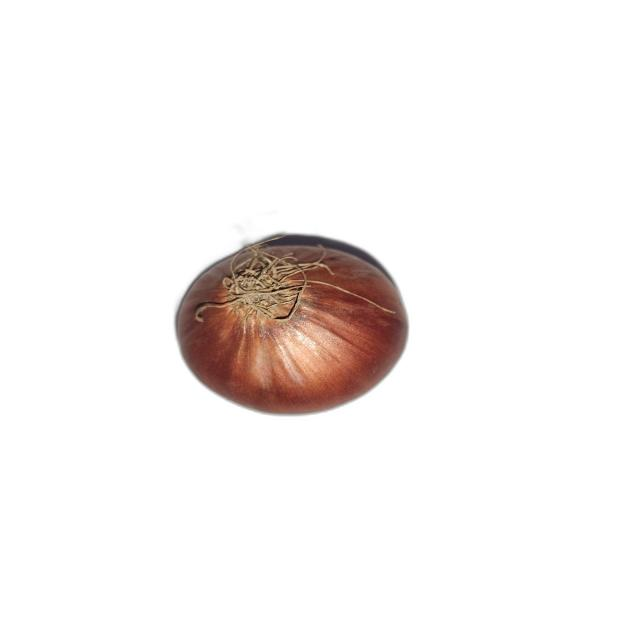onion: (176, 236, 408, 416)
